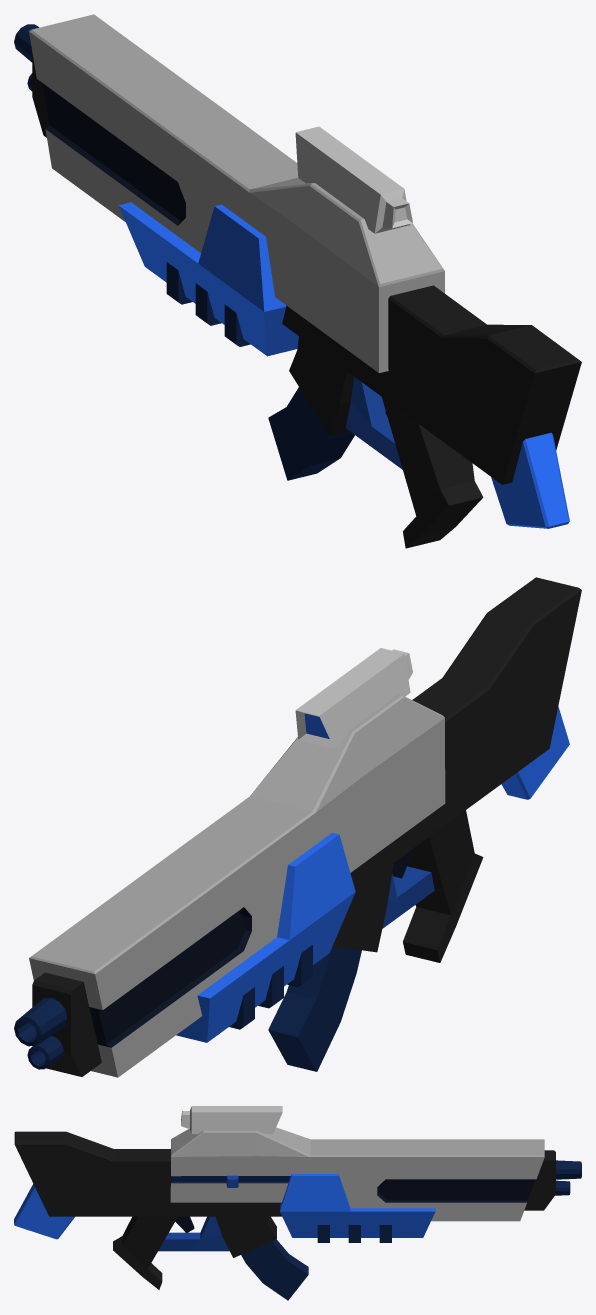
The model's file is Rifle.gltf.
3 views of the same model, one above another, from view 1: azimuth 30°, elevation 25°; view 2: azimuth 150°, elevation 25°; view 3: azimuth 270°, elevation 25° (orthographic). The views are drawn at different scales.
Visible parts, largest first — view 1: AssaultRifle; view 2: AssaultRifle; view 3: AssaultRifle.
Boxes of the visible parts, left/top/right/bottom form: AssaultRifle: left=14, top=14, right=581, bottom=548; AssaultRifle: left=14, top=577, right=581, bottom=1077; AssaultRifle: left=14, top=1106, right=581, bottom=1300.
Size of the model in its own units: 2.96 by 10.36 by 28.39.
Materials: 1 (1 with a texture image).
